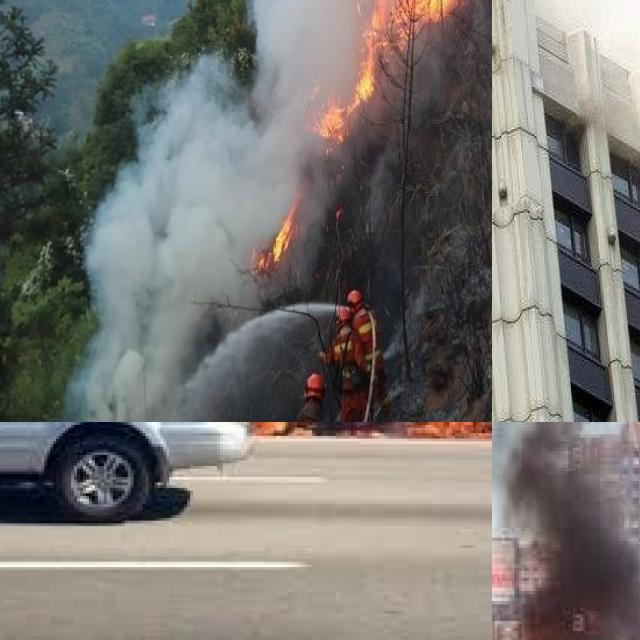fire: (317, 0, 492, 142), (250, 194, 303, 270)
smoke: (65, 0, 468, 422), (492, 422, 638, 640), (492, 0, 533, 320)
